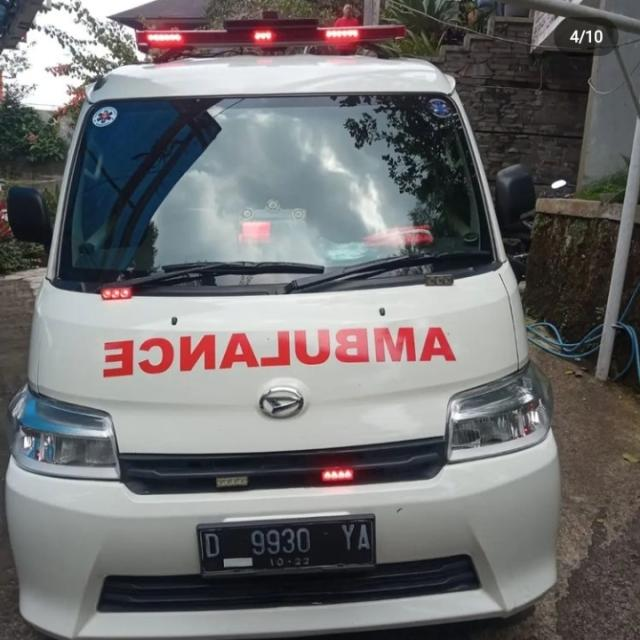emergency-vehicle: (18, 25, 570, 639)
